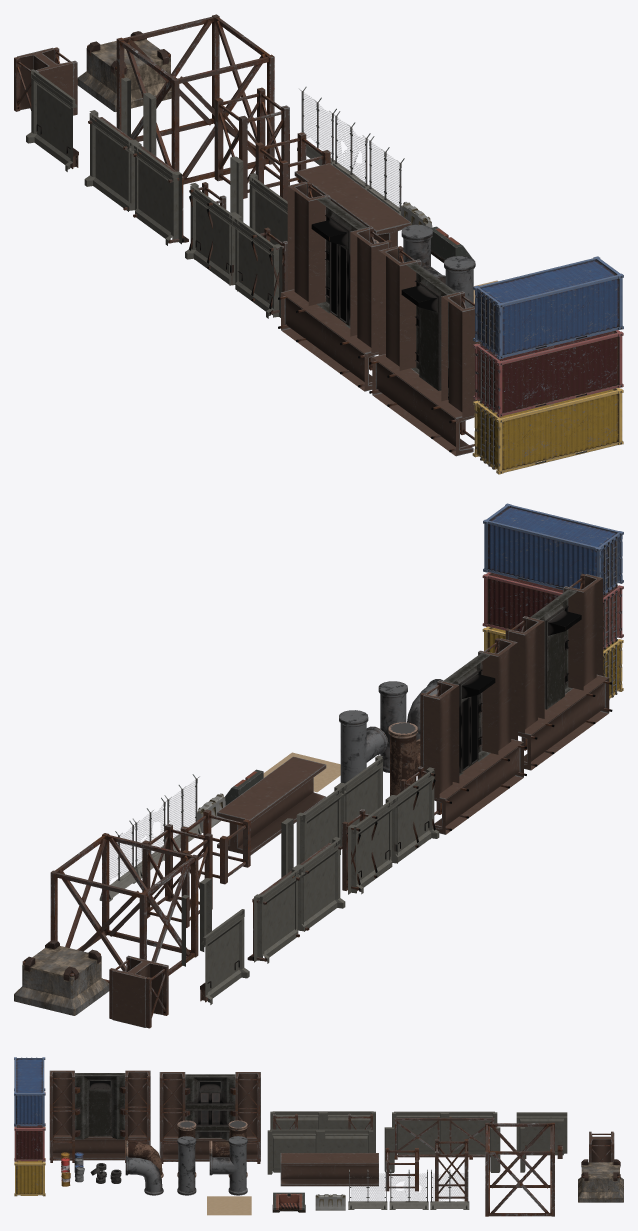
The picture shows the model from 3 angles, top to bottom: view 1: azimuth 30°, elevation 25°; view 2: azimuth 150°, elevation 25°; view 3: azimuth 270°, elevation 25°; orthographic projection. The views are drawn at different scales.
Parts seen in each view (by area): view 1: lp.005, lp.002, Cylinder.023, Cylinder.025, Cylinder.028, Cube.034, Plane.008, Plane.005, Cube.050, Cube.042, Cube.051, Plane.004 (+10 smaller); view 2: lp.002, lp.005, Cylinder.023, Cube.034, Plane.008, Plane.005, Cube.051, Cube.050, Plane.011, Cylinder.025, lp.007, Plane.004 (+11 smaller); view 3: lp.005, lp.002, Plane.005, Cube.051, Cube.034, Plane.011, Cylinder.023, Plane.008, Cube.050, Plane.004, Cylinder.109, Cylinder.025 (+16 smaller).
Part boxes in pixels (left/top/right/bottom): lp.005: left=369, top=246, right=480, bottom=456; lp.002: left=278, top=181, right=391, bottom=391; Cylinder.023: left=473, top=256, right=623, bottom=359; Cylinder.025: left=473, top=330, right=623, bottom=417; Cylinder.028: left=472, top=388, right=623, bottom=474; Cube.034: left=116, top=14, right=274, bottom=184; Plane.008: left=185, top=182, right=287, bottom=318; Plane.005: left=84, top=110, right=188, bottom=245; Cube.050: left=77, top=31, right=179, bottom=111; Cube.042: left=214, top=87, right=289, bottom=198; Cube.051: left=294, top=163, right=411, bottom=247; Plane.004: left=26, top=69, right=78, bottom=171; lp.002: left=420, top=638, right=526, bottom=834; lp.005: left=505, top=573, right=612, bottom=770; Cylinder.023: left=483, top=503, right=623, bottom=595; Cube.034: left=50, top=833, right=198, bottom=982; Plane.008: left=342, top=766, right=439, bottom=894; Plane.005: left=247, top=837, right=345, bottom=963; Cube.051: left=217, top=756, right=326, bottom=855; Cube.050: left=14, top=940, right=109, bottom=1015; Plane.011: left=296, top=755, right=383, bottom=864; Cylinder.025: left=482, top=572, right=623, bottom=649; lp.007: left=109, top=955, right=168, bottom=1028; Plane.004: left=200, top=909, right=249, bottom=1004; lp.005: left=49, top=1070, right=150, bottom=1162; lp.002: left=159, top=1072, right=260, bottom=1163; Plane.005: left=392, top=1111, right=497, bottom=1159; Cube.051: left=280, top=1153, right=378, bottom=1186; Cube.034: left=485, top=1122, right=554, bottom=1216; Plane.011: left=267, top=1129, right=373, bottom=1174; Cylinder.023: left=14, top=1057, right=45, bottom=1126; Plane.008: left=270, top=1111, right=375, bottom=1152; Cube.050: left=578, top=1159, right=623, bottom=1202; Plane.004: left=516, top=1112, right=567, bottom=1158; Cylinder.109: left=209, top=1136, right=247, bottom=1195; Cylinder.025: left=14, top=1092, right=45, bottom=1161.
Size of the model in its own units: 12.04 by 9.9 by 49.36.
15 materials, 15 textured.
